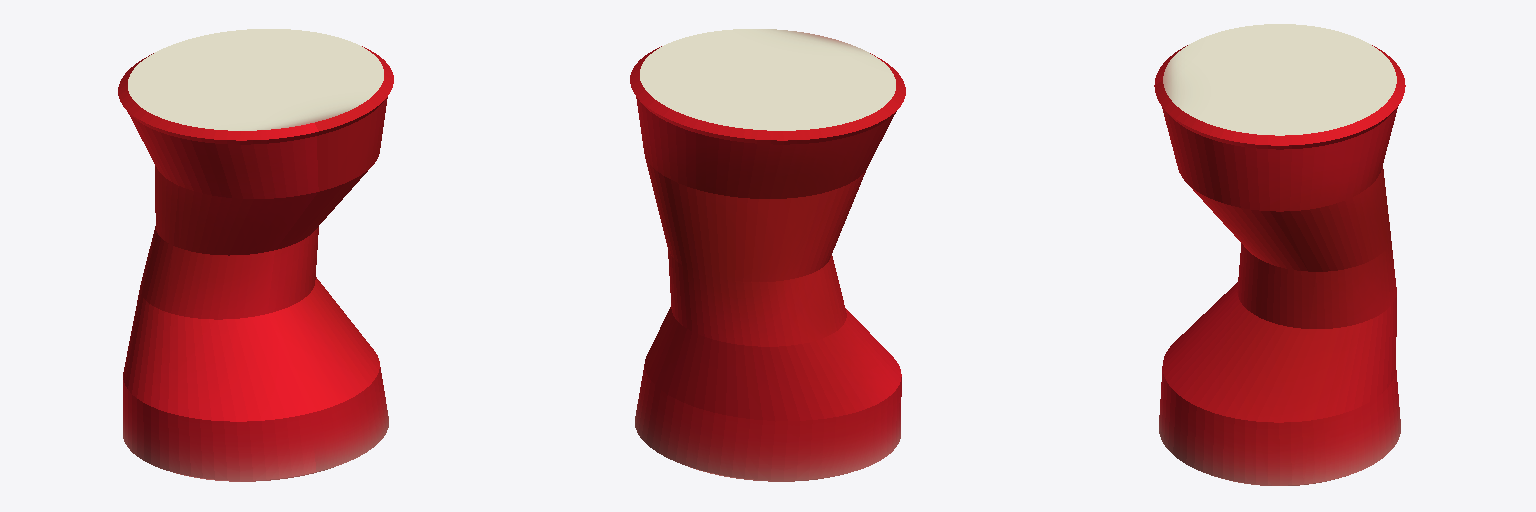
3 views of the same model, side by side, from view 1: azimuth 30°, elevation 25°; view 2: azimuth 150°, elevation 25°; view 3: azimuth 270°, elevation 25° (orthographic).
Visible parts, largest first — view 1: 円柱; view 2: 円柱; view 3: 円柱.
Part boxes in pixels (left/top/right/bottom): 円柱: left=118, top=29, right=393, bottom=481; 円柱: left=630, top=29, right=905, bottom=481; 円柱: left=1154, top=24, right=1405, bottom=485.
Size of the model in its own units: 0.7247 by 0.9924 by 0.6411.
Materials: 1 (1 with a texture image).